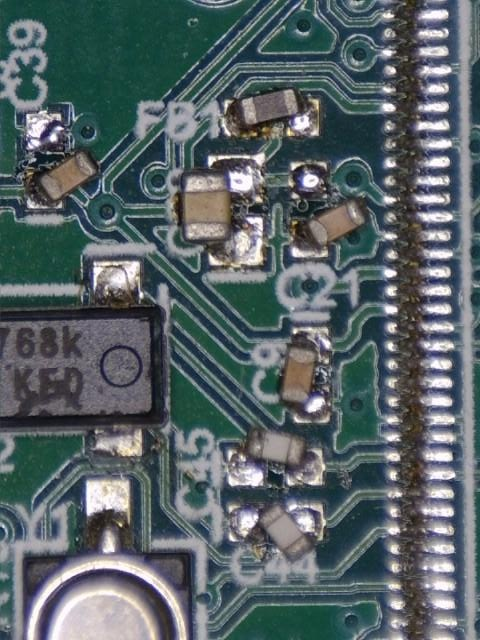pcb_defect: (180, 151, 266, 267), (289, 160, 368, 258), (24, 110, 99, 210), (226, 498, 326, 567), (225, 425, 327, 488), (223, 86, 322, 139), (281, 326, 332, 424)
